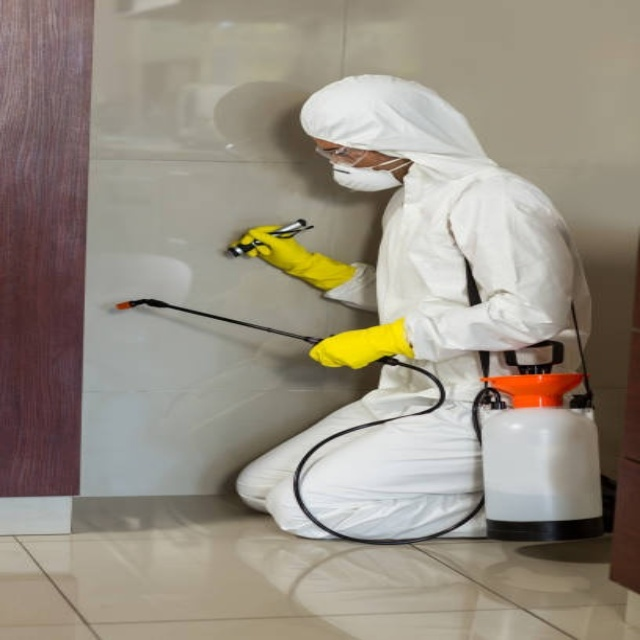Gafas: (314, 144, 373, 168)
Guantes: (235, 226, 357, 290), (308, 316, 415, 370)
Mascara: (327, 152, 407, 193)
